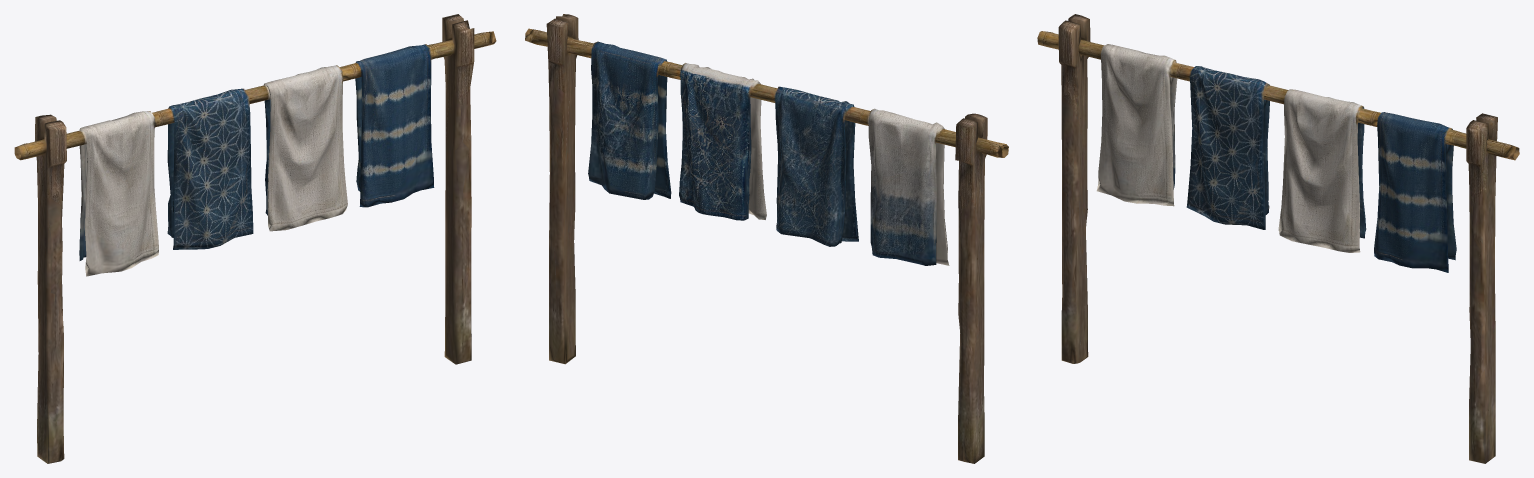
Rendered from laundry.glb.
3 views of the same model, side by side, from view 1: azimuth 30°, elevation 25°; view 2: azimuth 150°, elevation 25°; view 3: azimuth 330°, elevation 25° (orthographic).
Parts seen in each view (by area): view 1: towel rack 3d model; view 2: towel rack 3d model; view 3: towel rack 3d model.
Boxes of the visible parts, x1,y1,x2,y2 form: towel rack 3d model: [14, 14, 496, 463]; towel rack 3d model: [525, 14, 1008, 463]; towel rack 3d model: [1037, 14, 1519, 463].
Size of the model in its own units: 2.8 by 1.9 by 0.218.
Materials: 1 (1 with a texture image).
